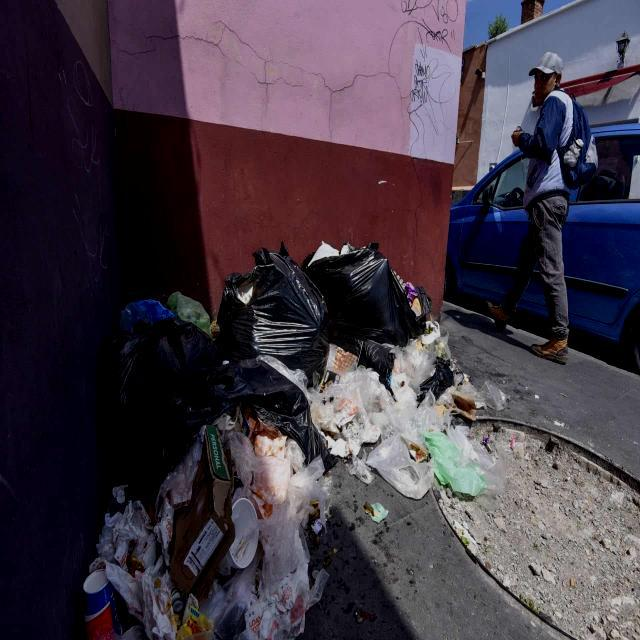high trash: (84, 245, 501, 640)
